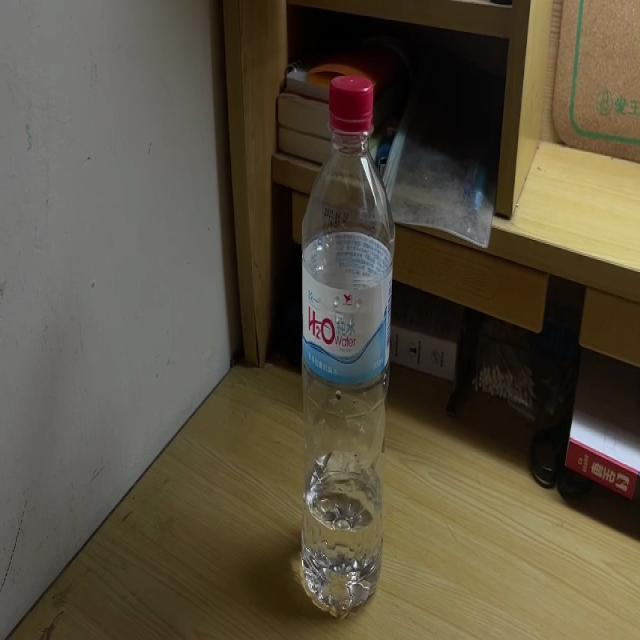Water: (302, 67, 391, 617)
